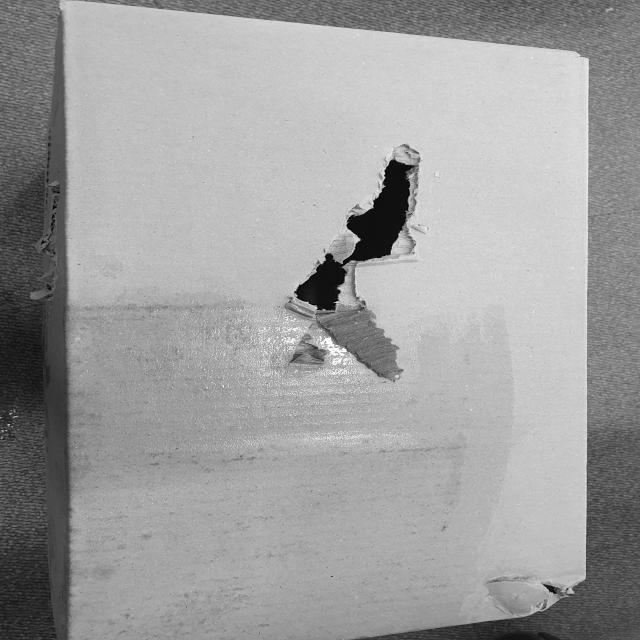hole: (287, 141, 452, 387)
